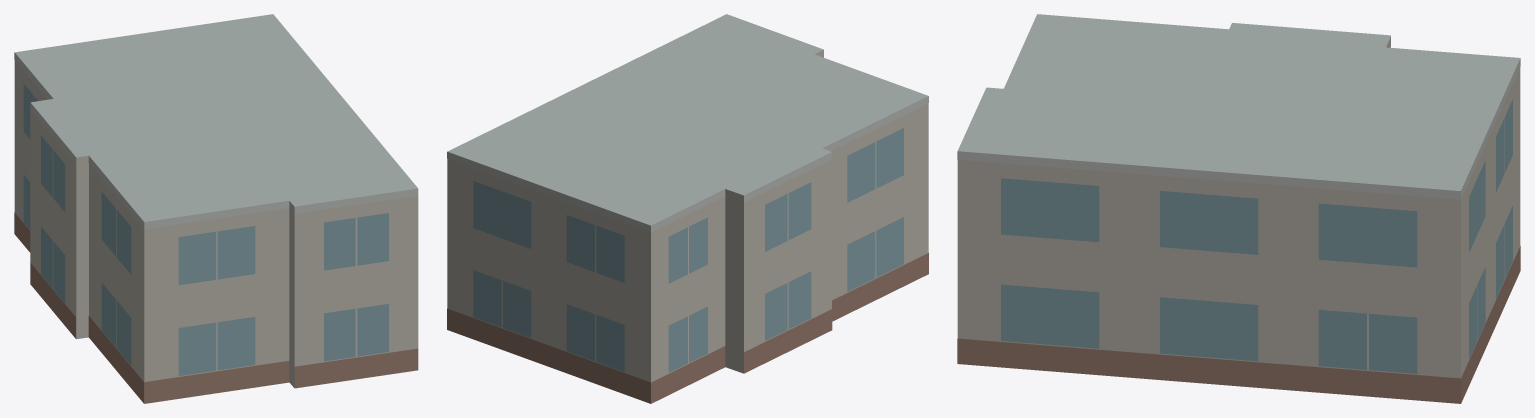
Rendered from survey-upis-32825670.glb.
3 renders of one model, left to right at view 1: azimuth 30°, elevation 25°; view 2: azimuth 150°, elevation 25°; view 3: azimuth 270°, elevation 25°, orthographic. The views are drawn at different scales.
Parts seen in each view (by area): view 1: survey-upis-32825670.tmp; view 2: survey-upis-32825670.tmp; view 3: survey-upis-32825670.tmp.
Boxes of the visible parts, <box> form: survey-upis-32825670.tmp: <box>14,14,418,403</box>; survey-upis-32825670.tmp: <box>447,14,928,403</box>; survey-upis-32825670.tmp: <box>957,14,1520,403</box>.
Bounding box in the file's own units: 10.9 × 6.1 × 14.64.
